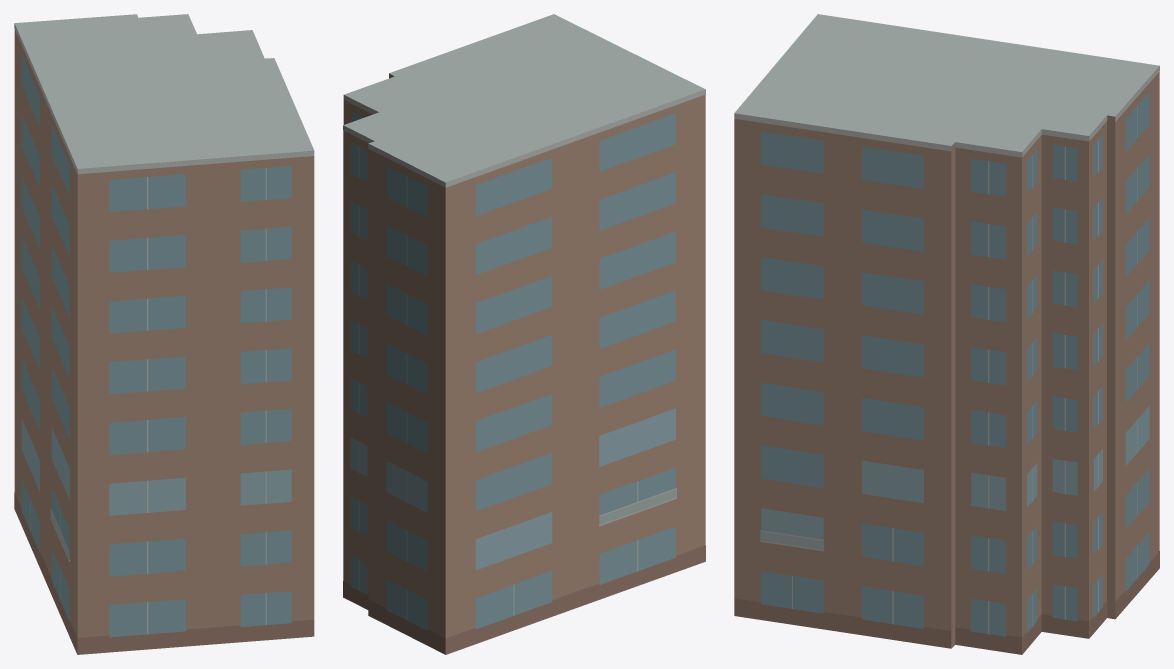
The model's file is survey-upis-32882581.glb.
The picture shows the model from 3 angles, left to right: view 1: azimuth 30°, elevation 25°; view 2: azimuth 150°, elevation 25°; view 3: azimuth 270°, elevation 25°; orthographic projection. The views are drawn at different scales.
Visible parts, largest first — view 1: survey-upis-32882581.tmp; view 2: survey-upis-32882581.tmp; view 3: survey-upis-32882581.tmp.
Boxes of the visible parts, left/top/right/bottom form: survey-upis-32882581.tmp: left=14, top=14, right=314, bottom=654; survey-upis-32882581.tmp: left=343, top=14, right=705, bottom=654; survey-upis-32882581.tmp: left=734, top=14, right=1159, bottom=654.
Bounding box in the file's own units: 13.22 × 22.4 × 17.2.
